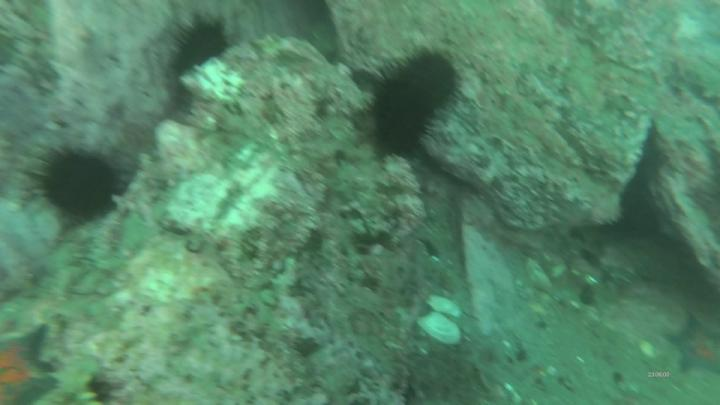echinus: (36, 141, 125, 227), (364, 76, 443, 163), (167, 9, 234, 91), (401, 45, 461, 110)
scallop: (418, 291, 470, 351)
starfish: (1, 322, 66, 405), (663, 307, 720, 379)
